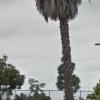Tree: (32, 0, 94, 45)
